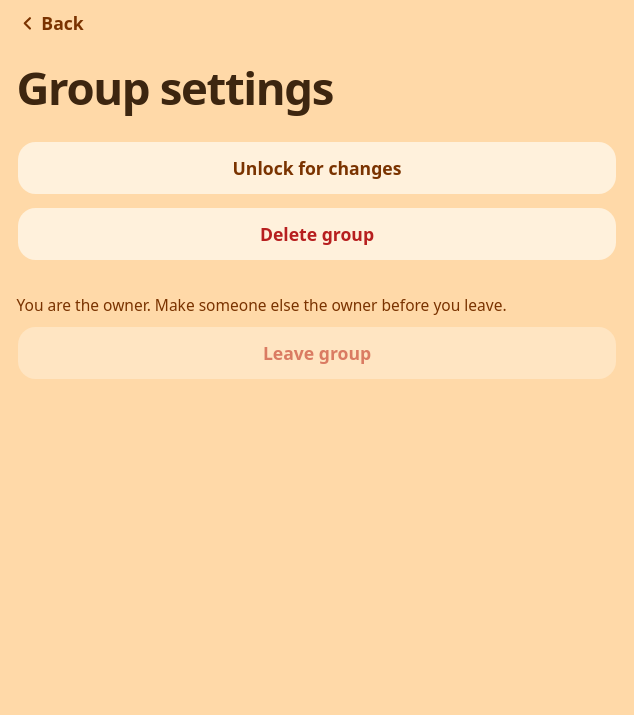
Test case: the group settings when the group is read-only › Unlock for changes › brings Save back and takes the button away after the server answered and the group was asked again
Check: the heading "Group settings" is shown, box [16, 56, 333, 118]
Click the button "Unlock for changes" at {"x": 317, "y": 168}, box [16, 141, 618, 195]
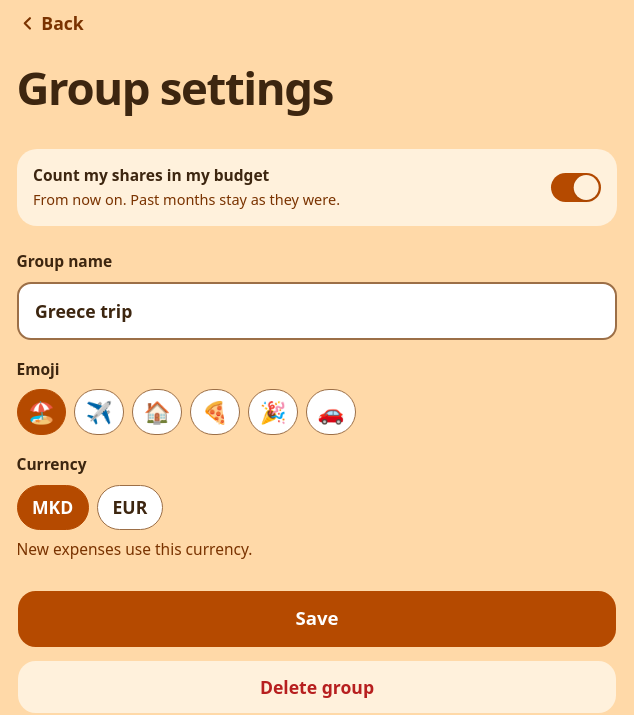
Check: the button "Save" is shown, box [16, 590, 618, 648]
Check: the button "Unlock for changes" is gone
